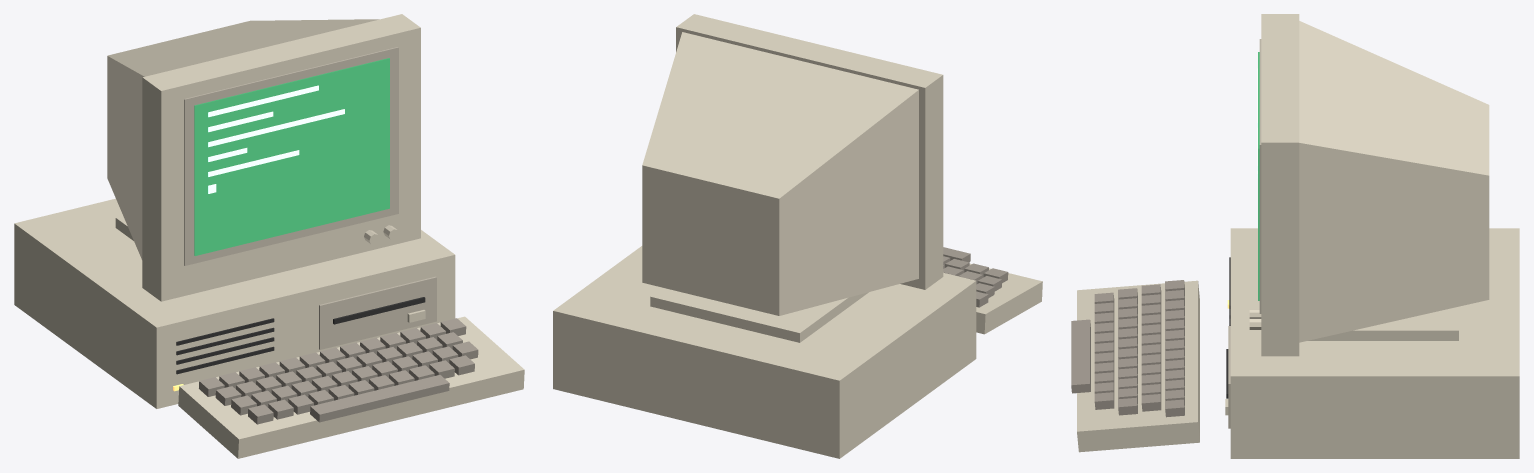
Rendered from retro_computer.glb.
3 views of the same model, side by side, from view 1: azimuth 30°, elevation 25°; view 2: azimuth 150°, elevation 25°; view 3: azimuth 270°, elevation 25° (orthographic). The views are drawn at different scales.
Visible parts, largest first — view 1: Base, Monitor, Screen, Keys, Keyboard, ScreenText; view 2: Monitor, Base, Keyboard, Keys; view 3: Monitor, Base, Keys, Keyboard, Screen.
Part boxes in pixels (bbox=[...]): Base: bbox=[14, 198, 455, 408]; Monitor: bbox=[107, 14, 420, 301]; Screen: bbox=[194, 58, 389, 255]; Keys: bbox=[199, 318, 478, 424]; Keyboard: bbox=[178, 316, 524, 458]; ScreenText: bbox=[208, 85, 344, 193]; Monitor: bbox=[642, 14, 943, 315]; Base: bbox=[553, 246, 976, 458]; Keyboard: bbox=[969, 263, 1042, 334]; Keys: bbox=[943, 247, 1008, 307]; Monitor: bbox=[1249, 14, 1489, 356]; Base: bbox=[1225, 228, 1519, 458]; Keys: bbox=[1071, 280, 1184, 417]; Keyboard: bbox=[1077, 280, 1199, 452]; Screen: bbox=[1258, 52, 1259, 300].
Bounding box in the file's own units: 0.46 × 0.445 × 0.5898.
